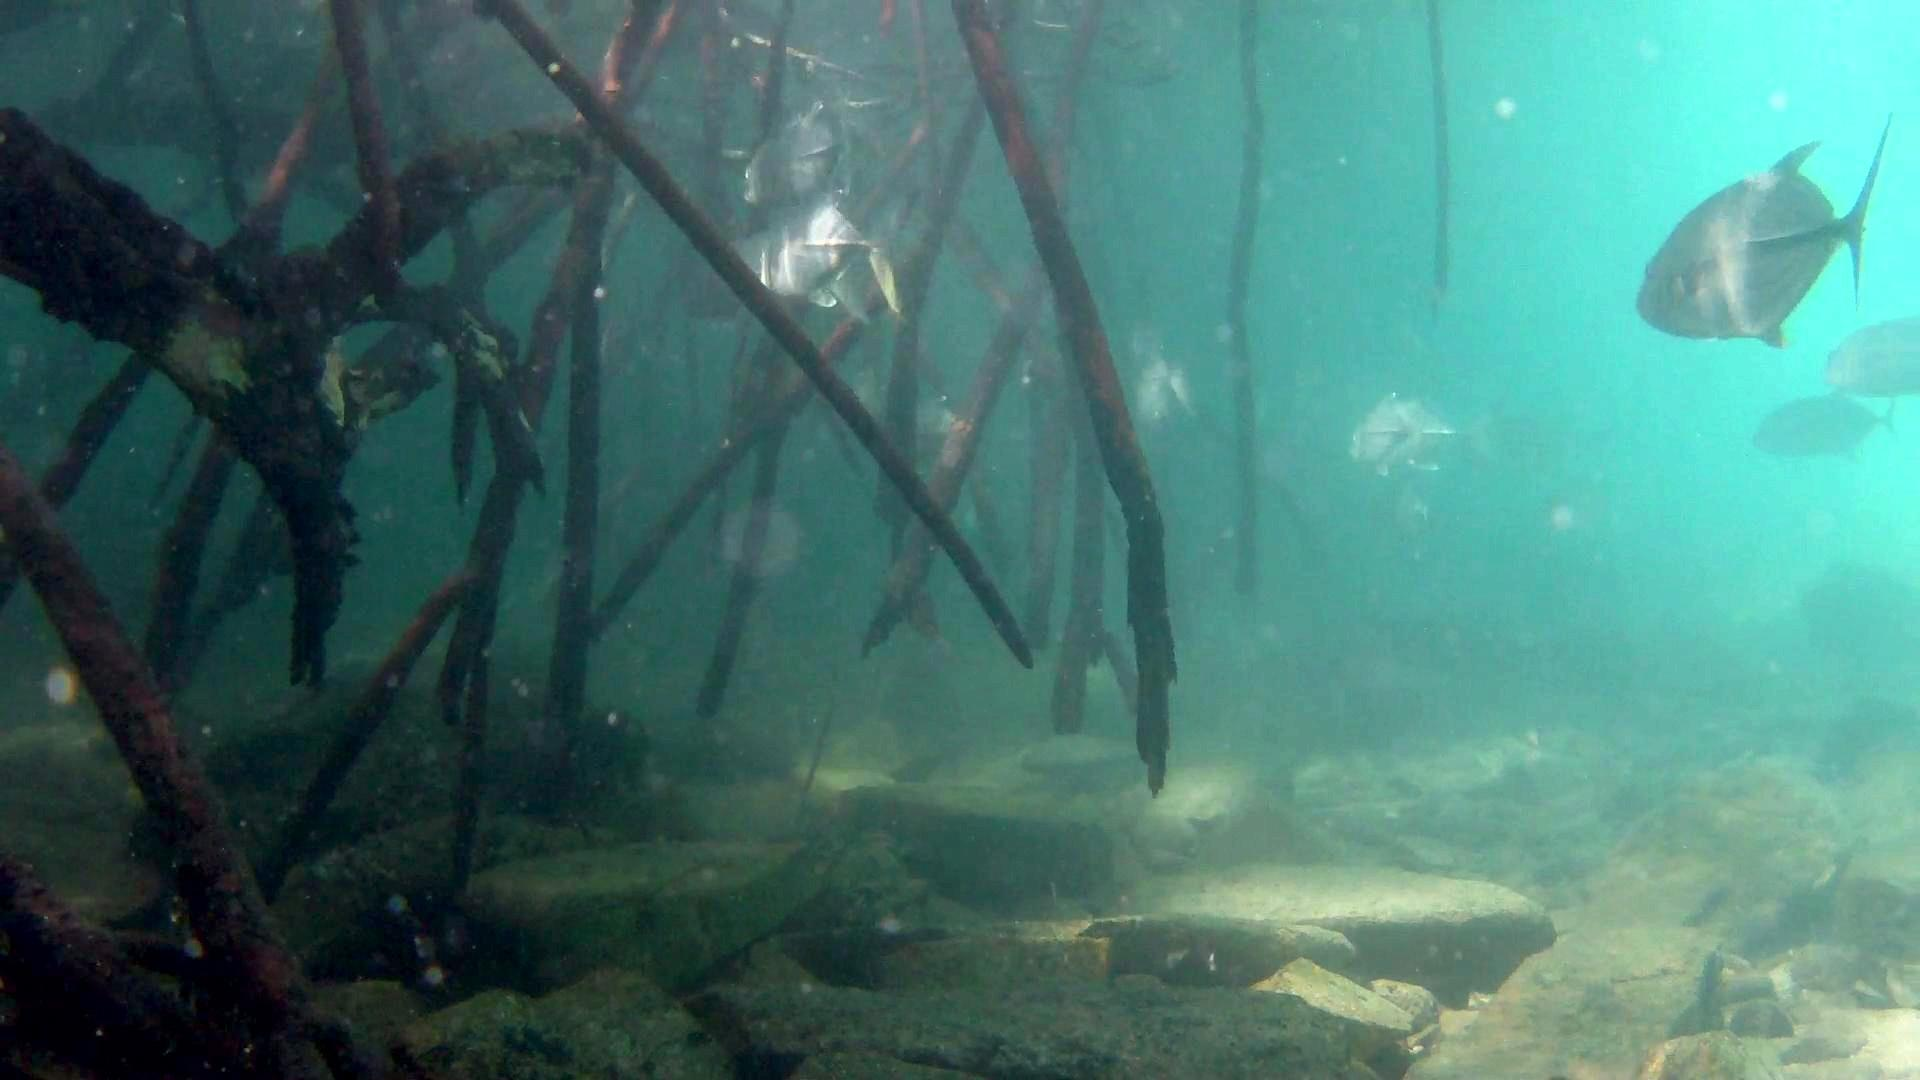caranx: (1629, 127, 1903, 352), (735, 160, 929, 325)
